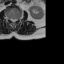CCS_stenosis: (13, 16, 14, 25)
LFS_normal: (16, 16, 19, 22)
LLS_normal: (14, 16, 16, 24)
RFS_normal: (9, 16, 11, 22)
RLS_normal: (11, 16, 13, 23)
